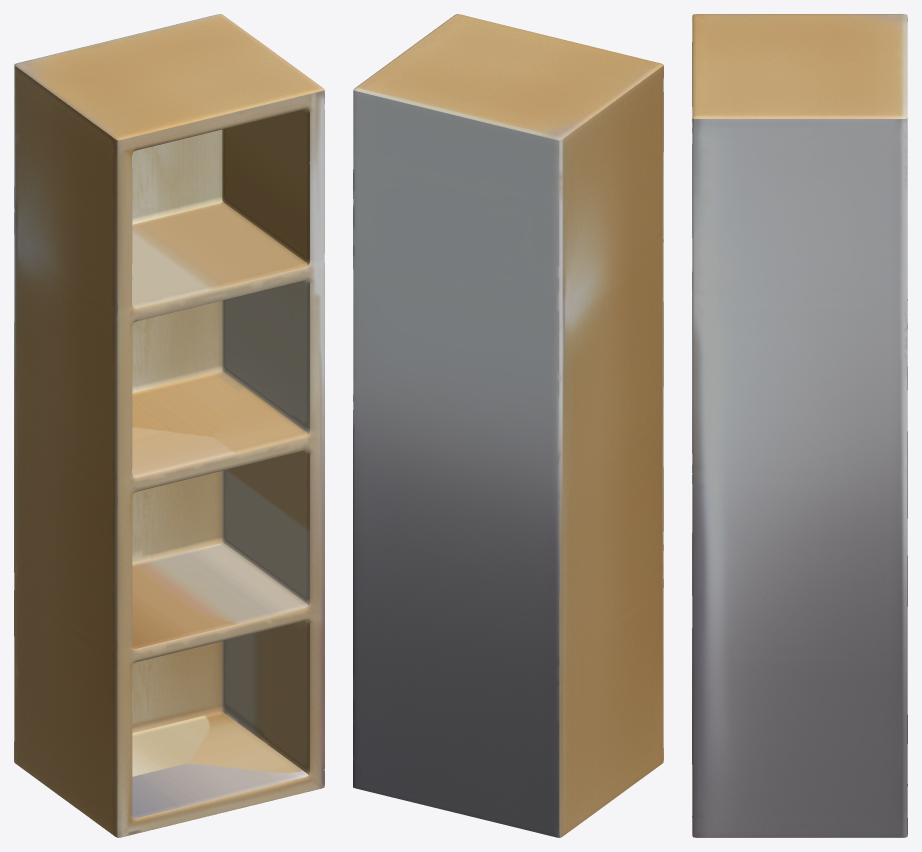
File: shelf__shelf#3.glb
3 views of the same model, side by side, from view 1: azimuth 30°, elevation 25°; view 2: azimuth 150°, elevation 25°; view 3: azimuth 270°, elevation 25° (orthographic). The views are drawn at different scales.
Visible parts, largest first — view 1: tmp6ogy4yc2.ply; view 2: tmp6ogy4yc2.ply; view 3: tmp6ogy4yc2.ply.
Part boxes in pixels (left/top/right/bottom): tmp6ogy4yc2.ply: left=14, top=14, right=324, bottom=837; tmp6ogy4yc2.ply: left=353, top=14, right=663, bottom=837; tmp6ogy4yc2.ply: left=692, top=14, right=907, bottom=837.
Size of the model in its own units: 0.6211 by 1.99 by 0.5395.
Materials: 1 (1 with a texture image).
